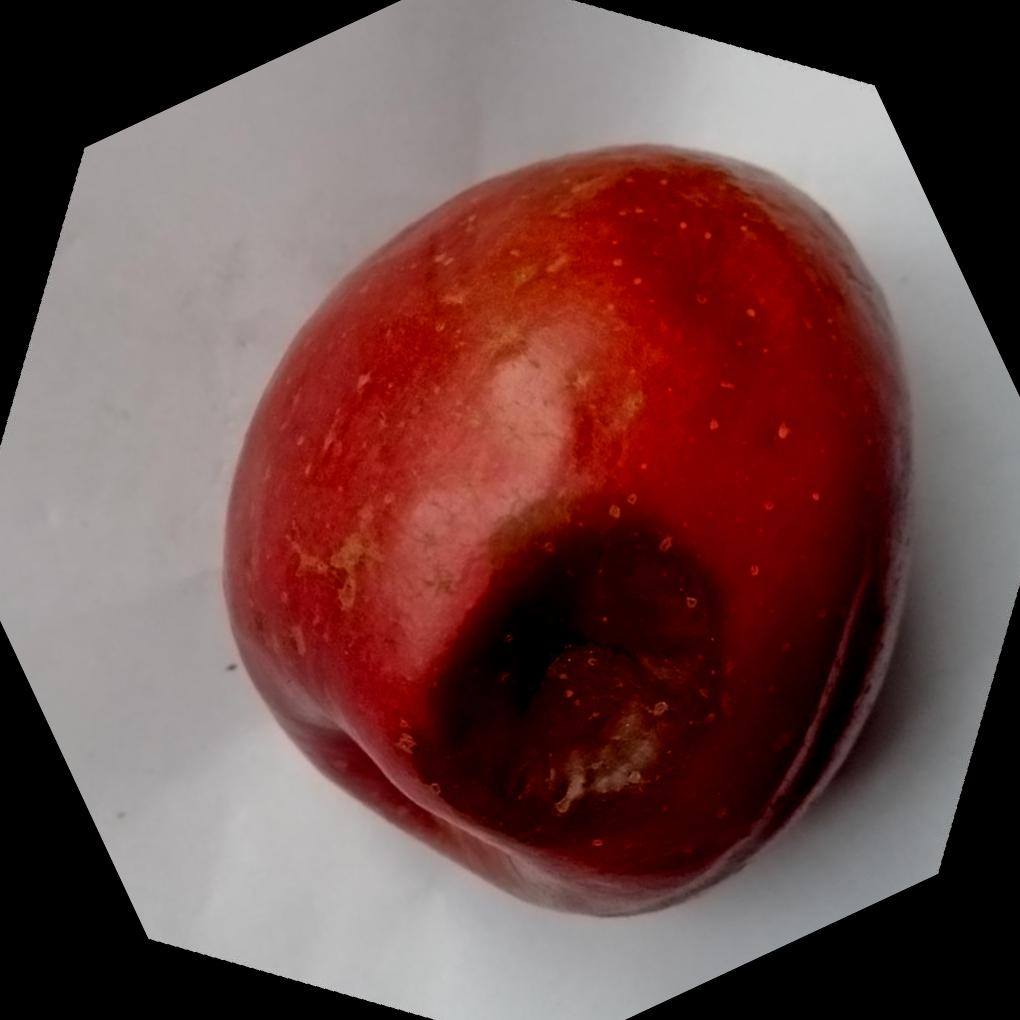FreshOrange: (216, 135, 914, 918)
